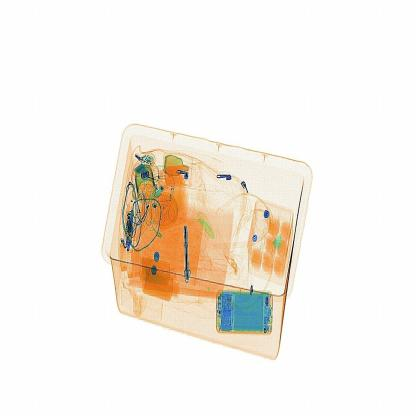knife: (181, 220, 196, 284)
